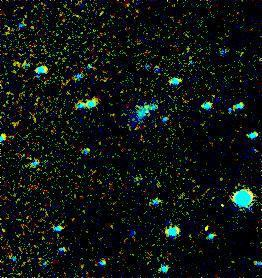star: (191, 212, 221, 242)
